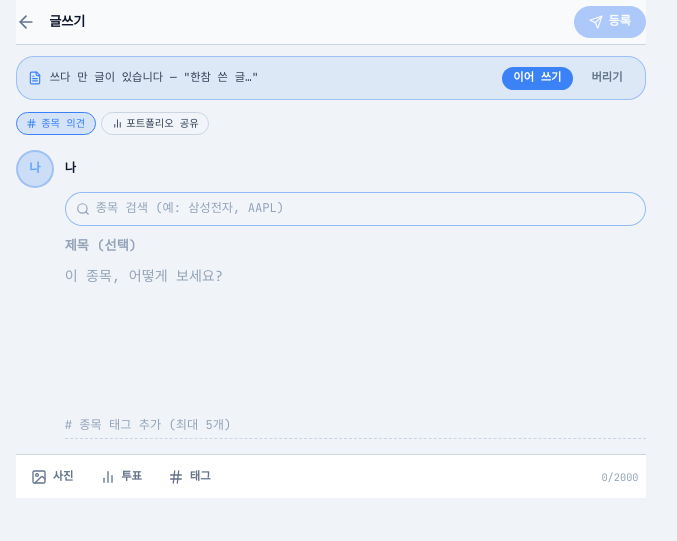
Test: 앱의 글쓰기 화면처럼(피드 12번) › 고른 종목은 이름 칩이 되고, 지우면 다시 검색칸
This screenshot has width=677, height=541.
In the field with placeholder "종목 검색 (예: 삼성전자, AAPL)": (355, 209) [65,192,646,226], type "삼성"
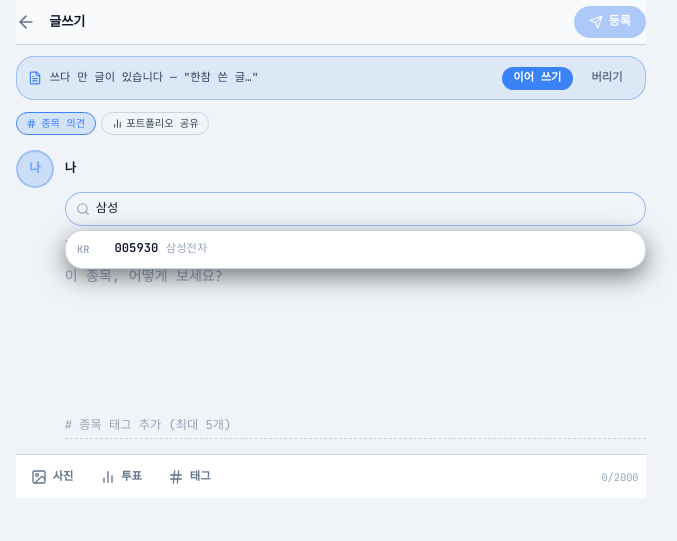
Click the button "KR 005930 삼성전자": (136, 248) [66,231,645,268]
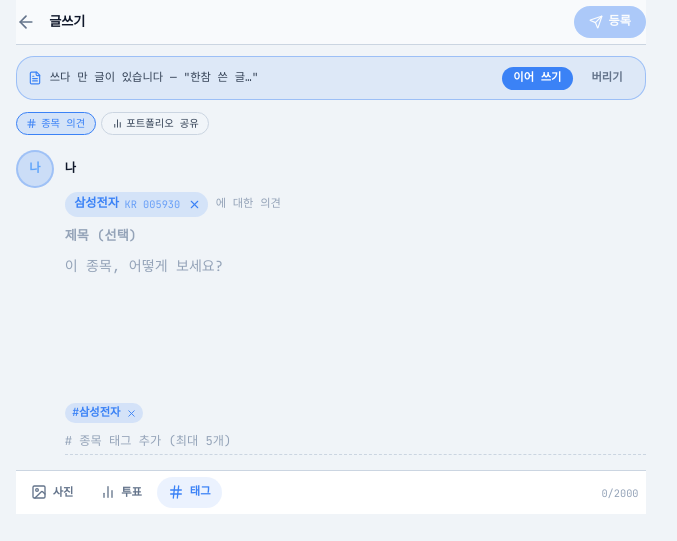
expect the field with placeholder "종목 검색" is not shown: met
expect the text "삼성전자" is shown: met, box [74,195,119,211]
expect the text "KR 005930" is shown: met, box [124,197,180,211]
Click the button named "종목 지우기": (194, 204) [186,196,203,213]
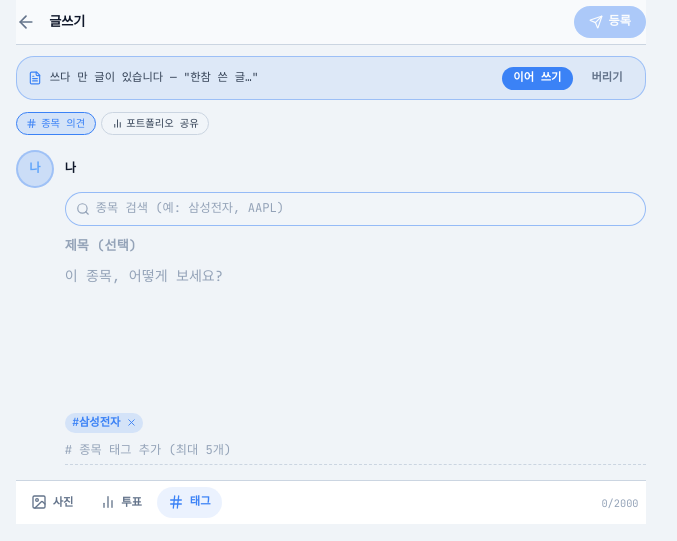
expect the field with placeholder "종목 검색 (예: 삼성전자, AAPL)" is shown: met, box [65,192,646,226]
